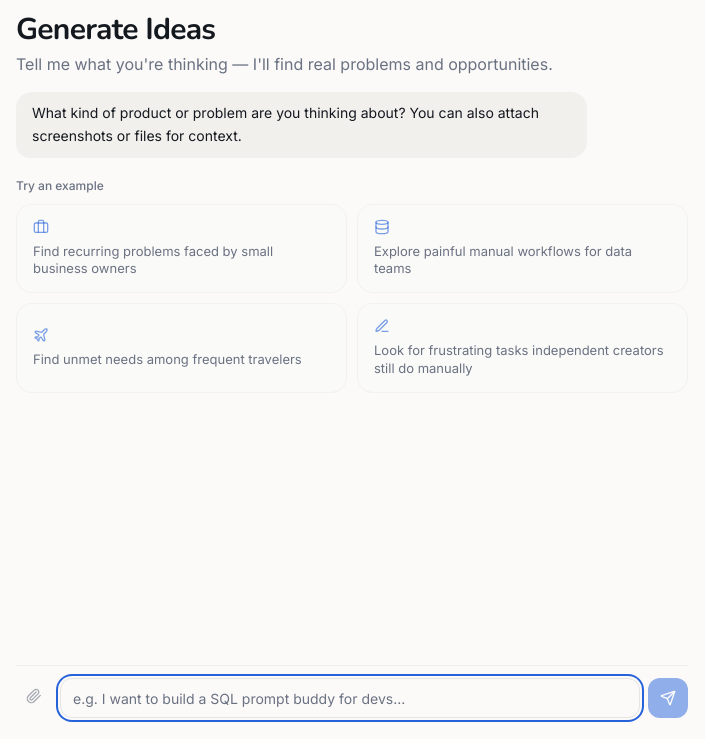
Test: GenerateIdeas starter chips › hides chips after typing and restores when cleared
Type "hello" into the field with placeholder "e.g. I want to build a SQL prompt buddy for devs..." at (350, 698), box [60,678,640,718]
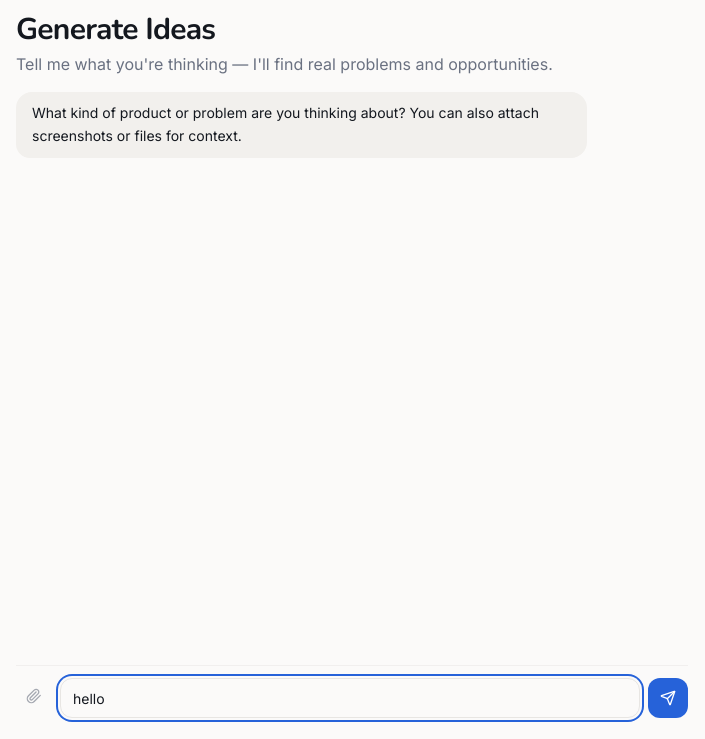
Clear the field with placeholder "e.g. I want to build a SQL prompt buddy for devs..." at (350, 698), box [60,678,640,718]
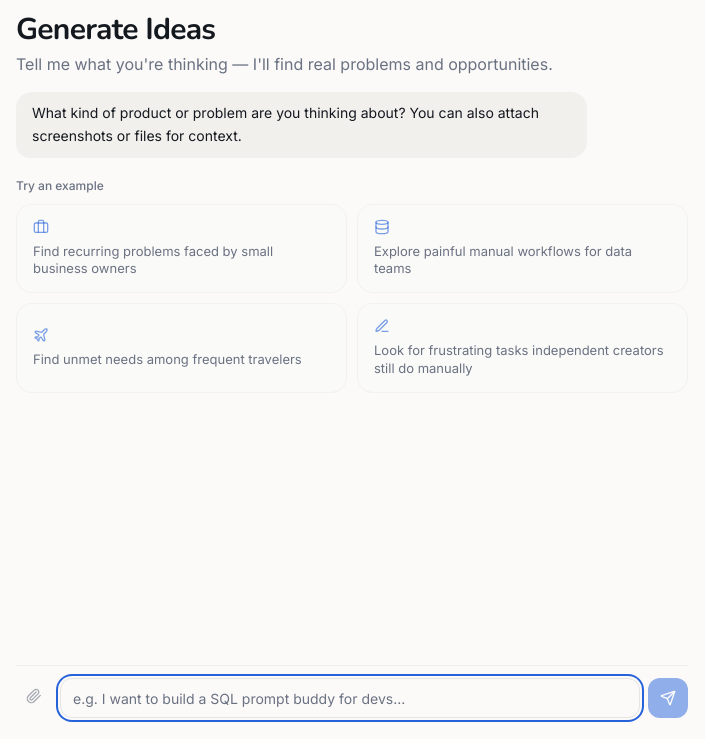
Expected: the element named "generate idea starters" is shown, [16,204,688,393]
